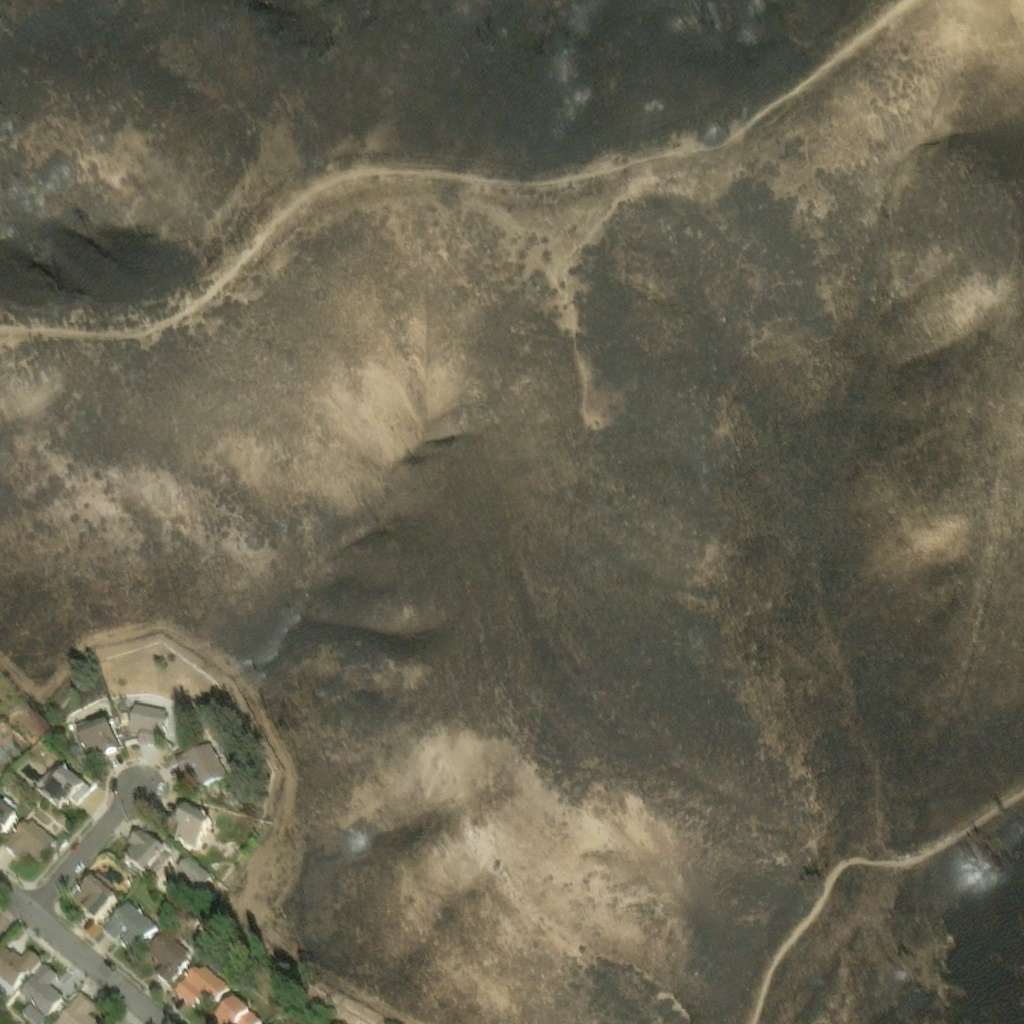0 no-damage: (73, 873, 125, 924), (104, 902, 158, 951), (122, 831, 175, 880), (20, 968, 67, 1023), (174, 740, 228, 786), (146, 932, 192, 986), (173, 963, 230, 1006), (3, 821, 59, 864), (0, 949, 43, 1000), (42, 765, 88, 810), (171, 802, 212, 851), (127, 697, 167, 743), (76, 716, 123, 753), (211, 993, 262, 1023), (177, 860, 213, 894), (61, 995, 98, 1023), (0, 797, 20, 839), (0, 721, 18, 759), (32, 717, 52, 739)
